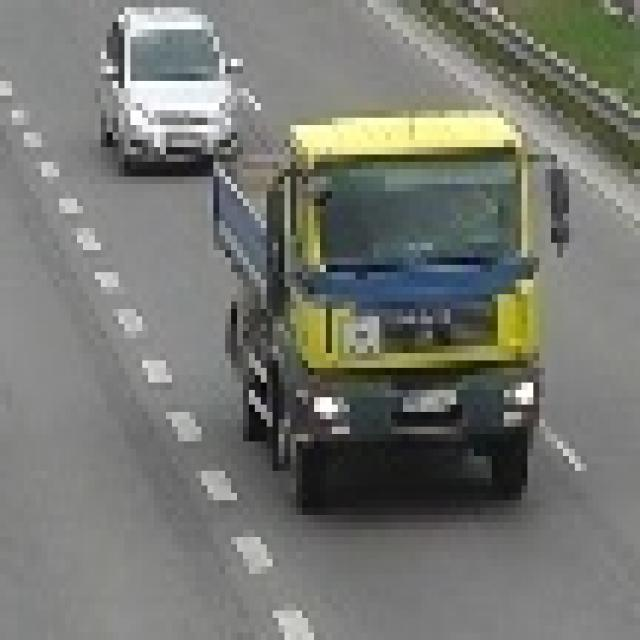car: (72, 4, 245, 190)
truck: (186, 103, 590, 519)
